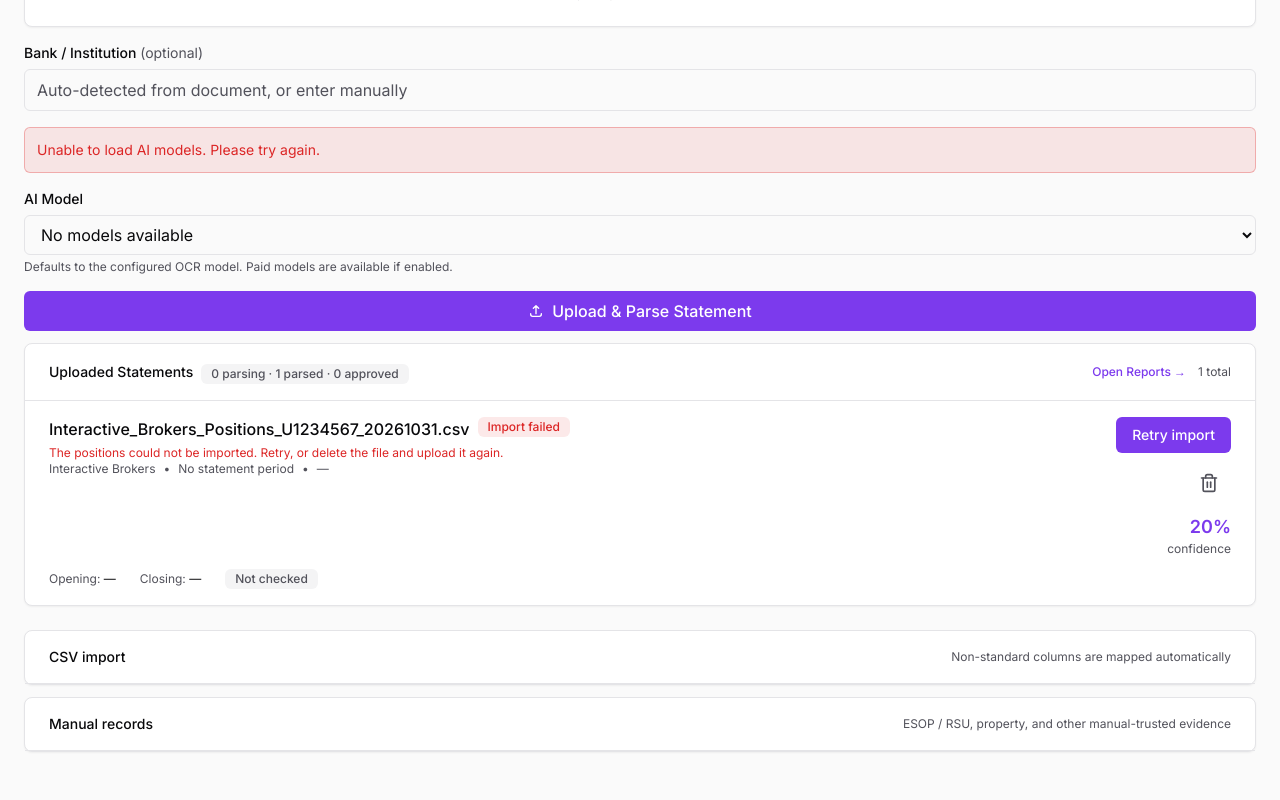
Scenario: StatementsPage › AC-extraction.fe-upload-layout.4 shows a failed brokerage import as Import failed with Retry, never as parsing or ready
The image size is (1280, 800).
(page scrolled)
Check: the text "Import failed" is shown, box [478, 417, 570, 437]
Check: the text "The positions could not be imported. Retry, or delete the file and upload it again." is shown, box [49, 445, 504, 460]
Click the button "Retry import" at (1174, 435), box [1116, 417, 1231, 453]
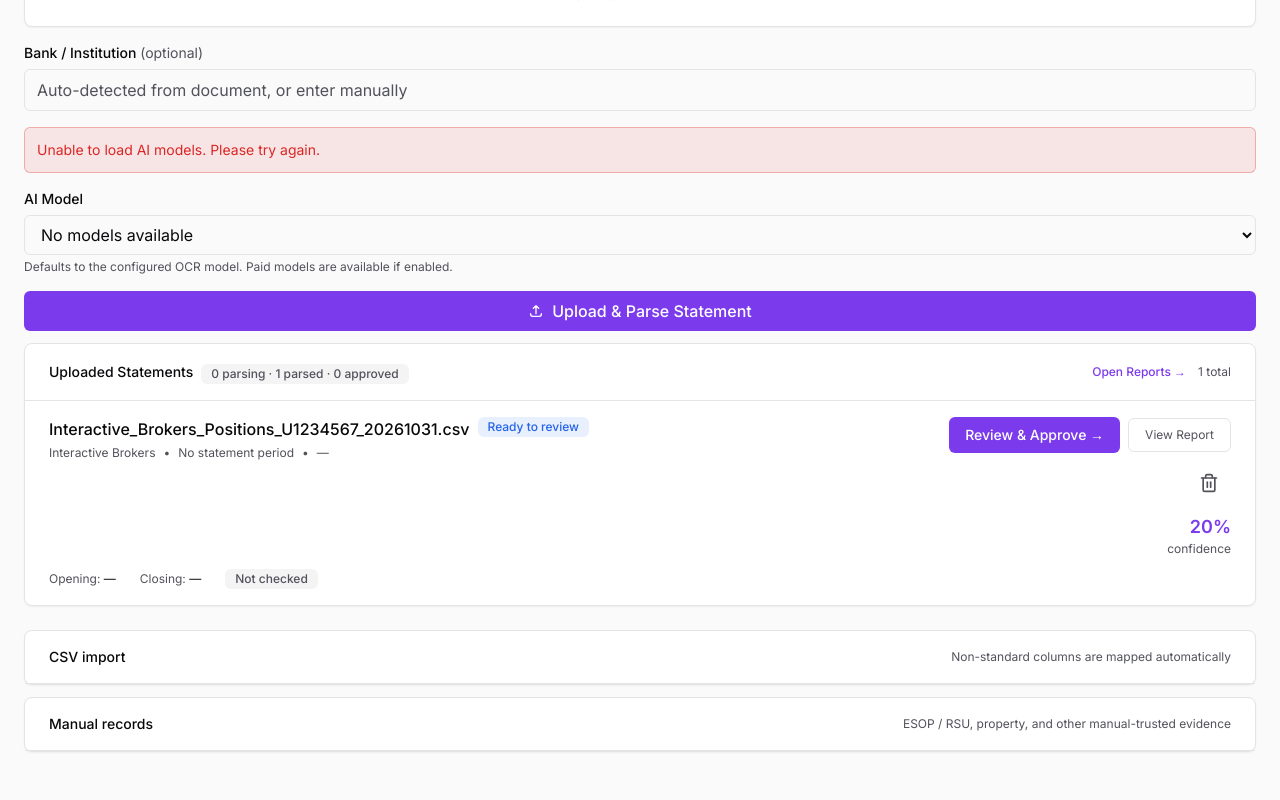
Check: the text "Ready to review" is shown, box [478, 417, 589, 437]
